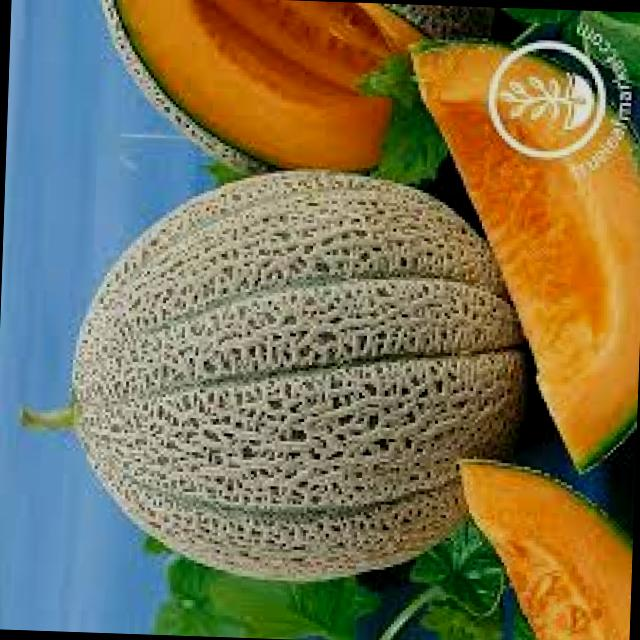cantaloupe: (16, 159, 518, 586), (395, 31, 640, 470)
